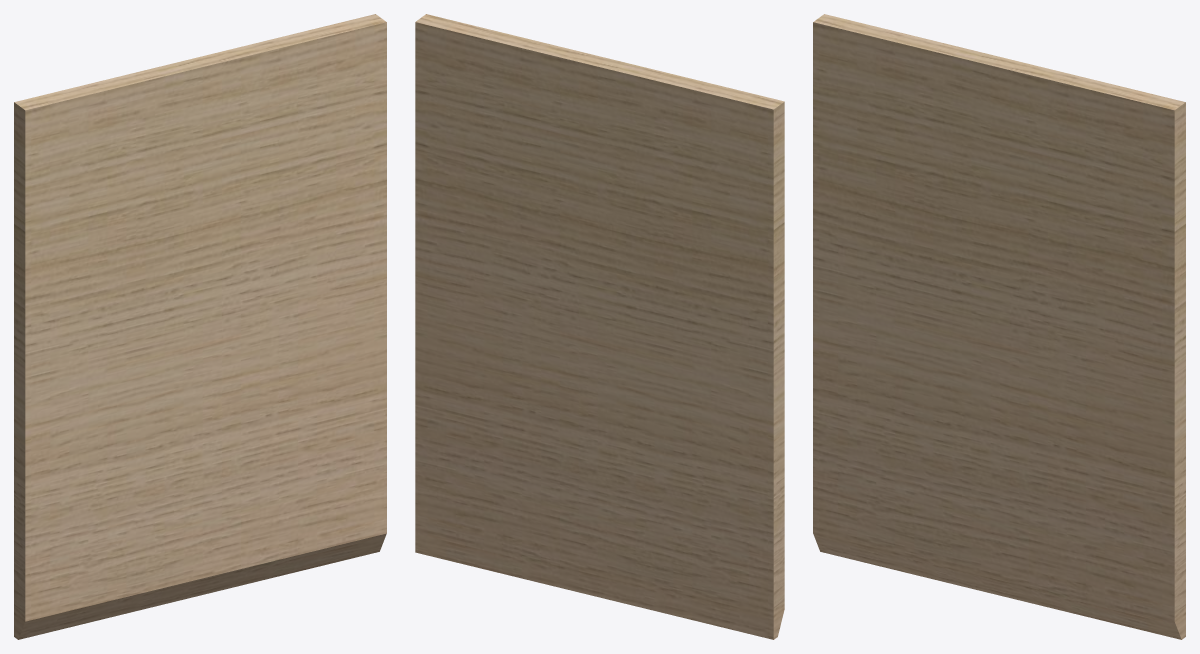
The model's file is dor_S9_dor_hoyre_1894.glb.
3 views of the same model, side by side, from view 1: azimuth 30°, elevation 25°; view 2: azimuth 150°, elevation 25°; view 3: azimuth 330°, elevation 25° (orthographic).
Bounding box in the file's own units: 356 × 502 × 19.
Materials: 1 (1 with a texture image).
